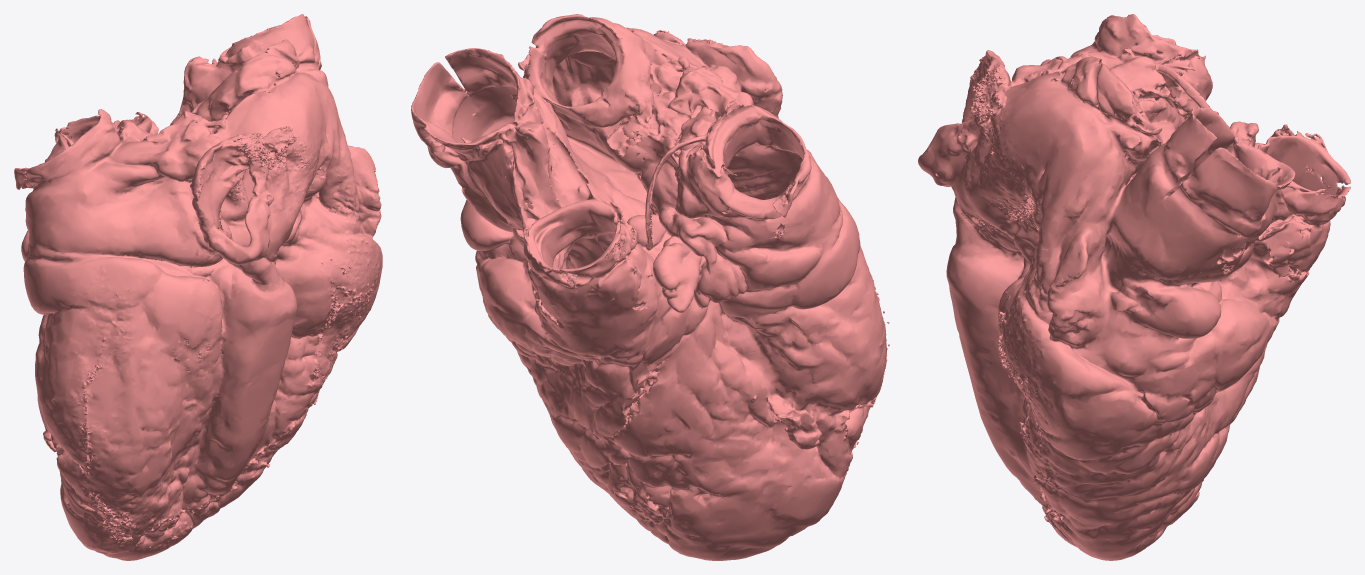
Rendered from 3DHeartCoronary1.glb.
3 views of the same model, side by side, from view 1: azimuth 30°, elevation 25°; view 2: azimuth 150°, elevation 25°; view 3: azimuth 270°, elevation 25° (orthographic). The views are drawn at different scales.
Parts seen in each view (by area): view 1: Heart; view 2: Heart; view 3: Heart.
Part boxes in pixels (x1,y1,x2,y2): Heart: [14, 14, 382, 560]; Heart: [411, 14, 889, 560]; Heart: [918, 14, 1350, 560].
Size of the model in its own units: 0.1038 by 0.1361 by 0.0956.
